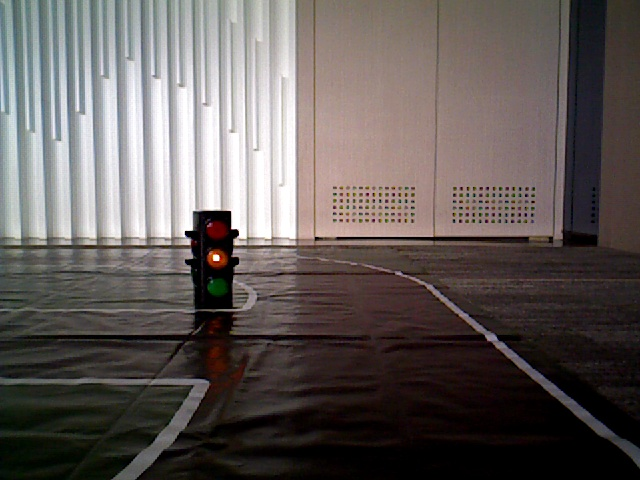yellow: (197, 214, 230, 301)
